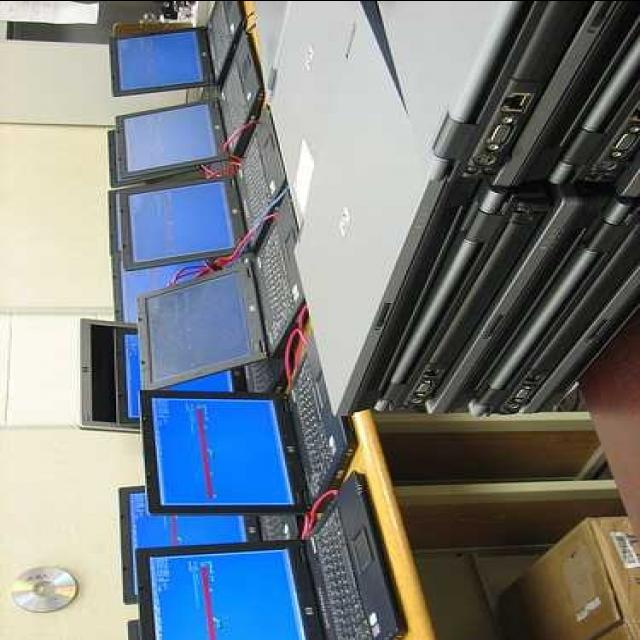laptop: (142, 473, 398, 638), (141, 340, 353, 518), (136, 195, 306, 393), (118, 106, 294, 272), (115, 12, 262, 182), (110, 0, 246, 96)
